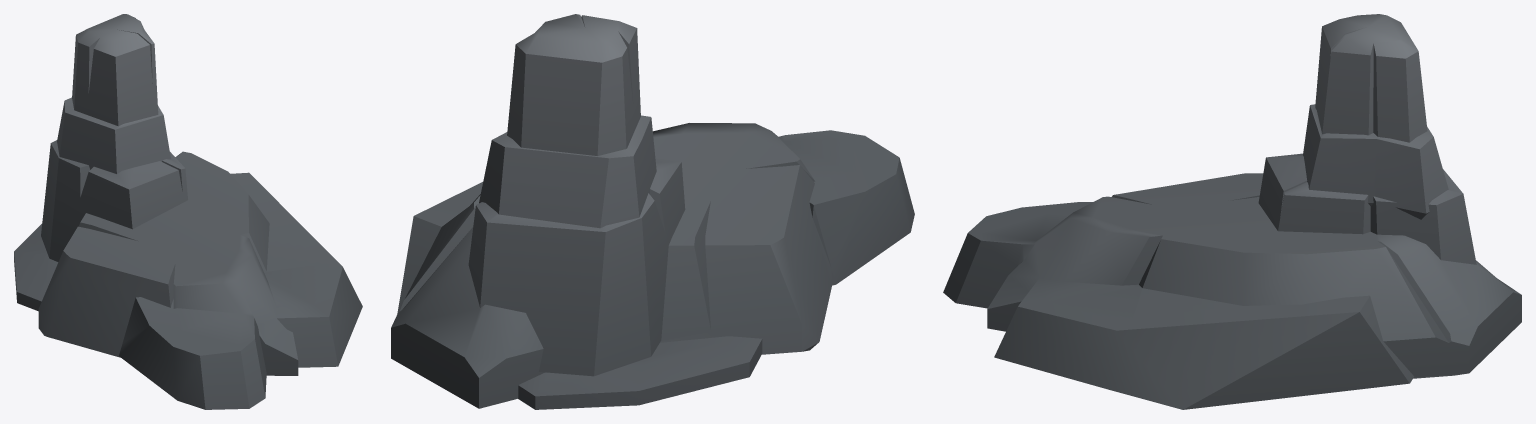
Rendered from Rock_8.fbx.
3 views of the same model, side by side, from view 1: azimuth 30°, elevation 25°; view 2: azimuth 150°, elevation 25°; view 3: azimuth 270°, elevation 25° (orthographic). The views are drawn at different scales.
Parts seen in each view (by area): view 1: Rock_8; view 2: Rock_8; view 3: Rock_8.
Part boxes in pixels (x1,y1,x2,y2): Rock_8: (14, 14, 362, 409); Rock_8: (391, 14, 914, 409); Rock_8: (943, 14, 1521, 409).
Size of the model in its own units: 489 by 424 by 752.
